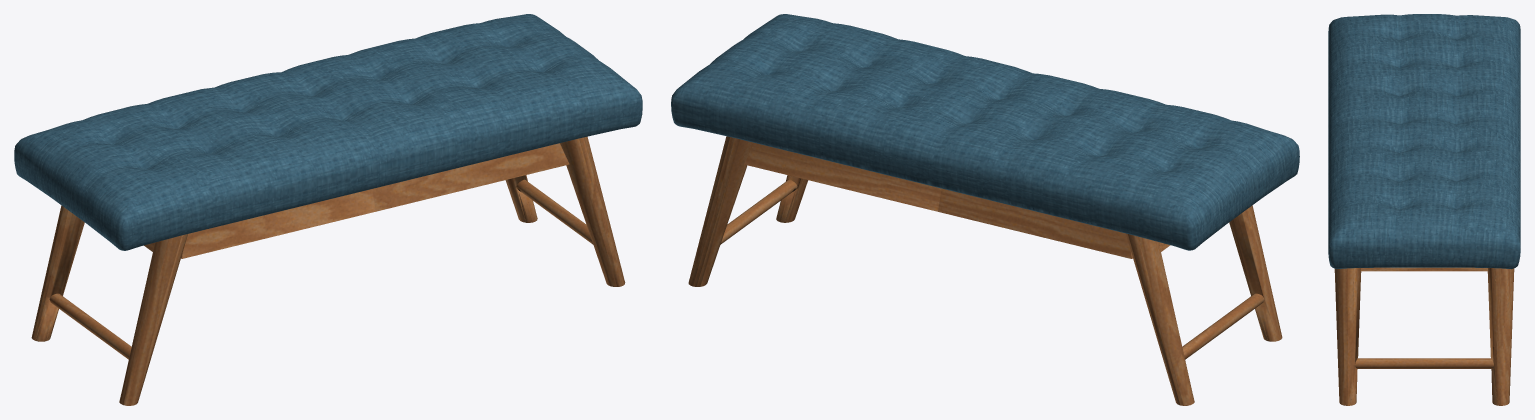
The picture shows the model from 3 angles, left to right: view 1: azimuth 30°, elevation 25°; view 2: azimuth 150°, elevation 25°; view 3: azimuth 270°, elevation 25°; orthographic projection. The views are drawn at different scales.
Parts seen in each view (by area): view 1: visual_RootNode; view 2: visual_RootNode; view 3: visual_RootNode.
Part boxes in pixels (<box>): visual_RootNode: <box>14,14,642,405</box>; visual_RootNode: <box>671,14,1299,405</box>; visual_RootNode: <box>1328,14,1520,405</box>.
Size of the model in its own units: 1.12 by 0.4064 by 0.4317.
Materials: 1 (1 with a texture image).
